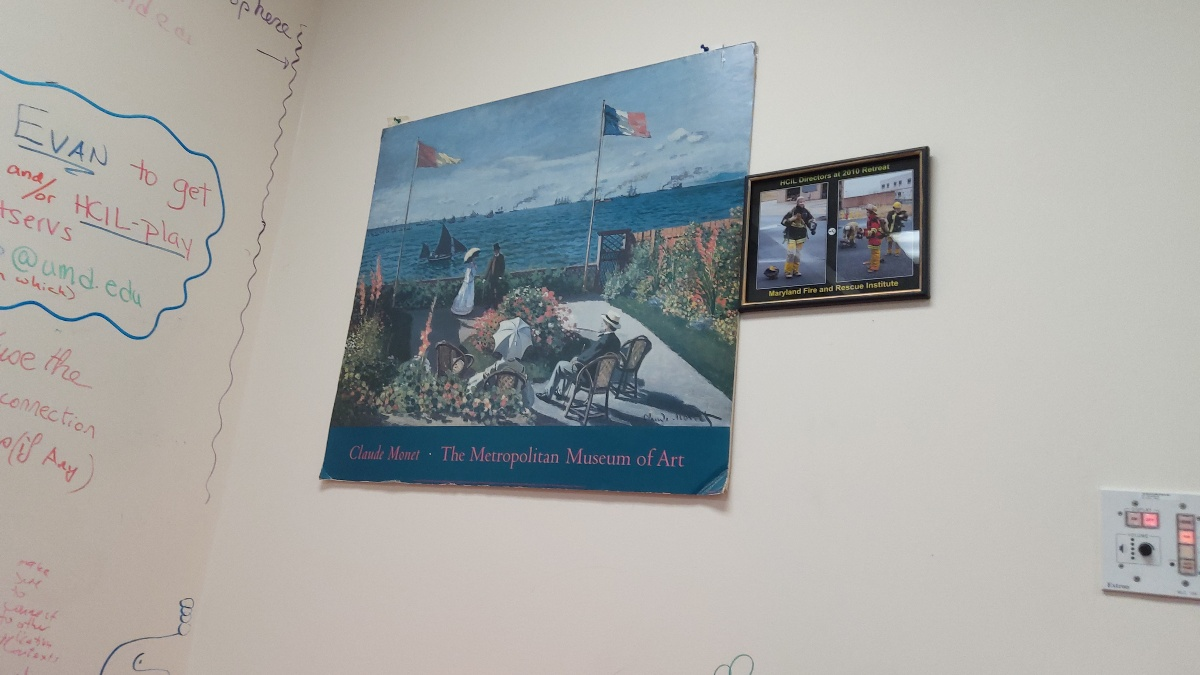poster: (303, 51, 766, 505)
